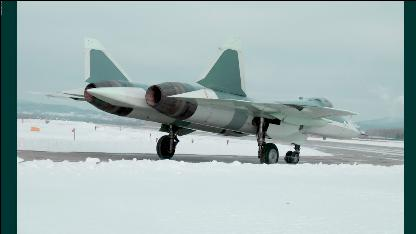SR71: (21, 33, 371, 163)
